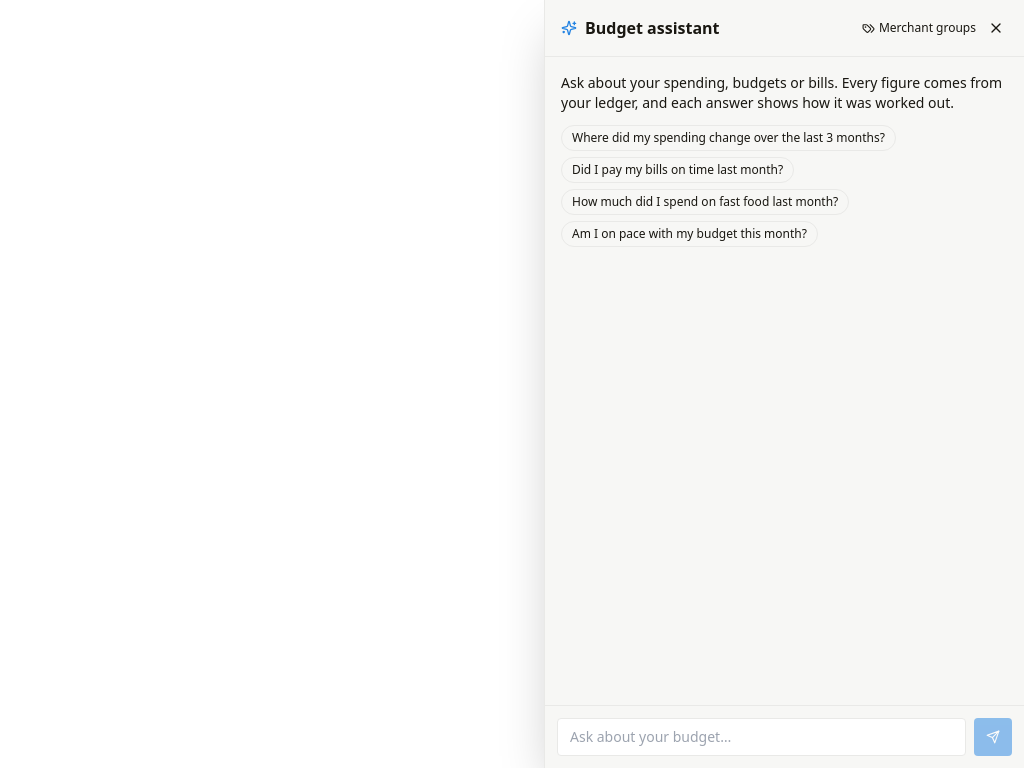
offers the four suggested questions and answers one with its sources
Expected: the button "Where did my spending change over the last 3 months?" is shown, [561,125,896,151]
Expected: the button "Did I pay my bills on time last month?" is shown, [561,157,794,183]
Step 1. Click the button "How much did I spend on fast food last month?" → (705, 202), box [561,189,849,215]
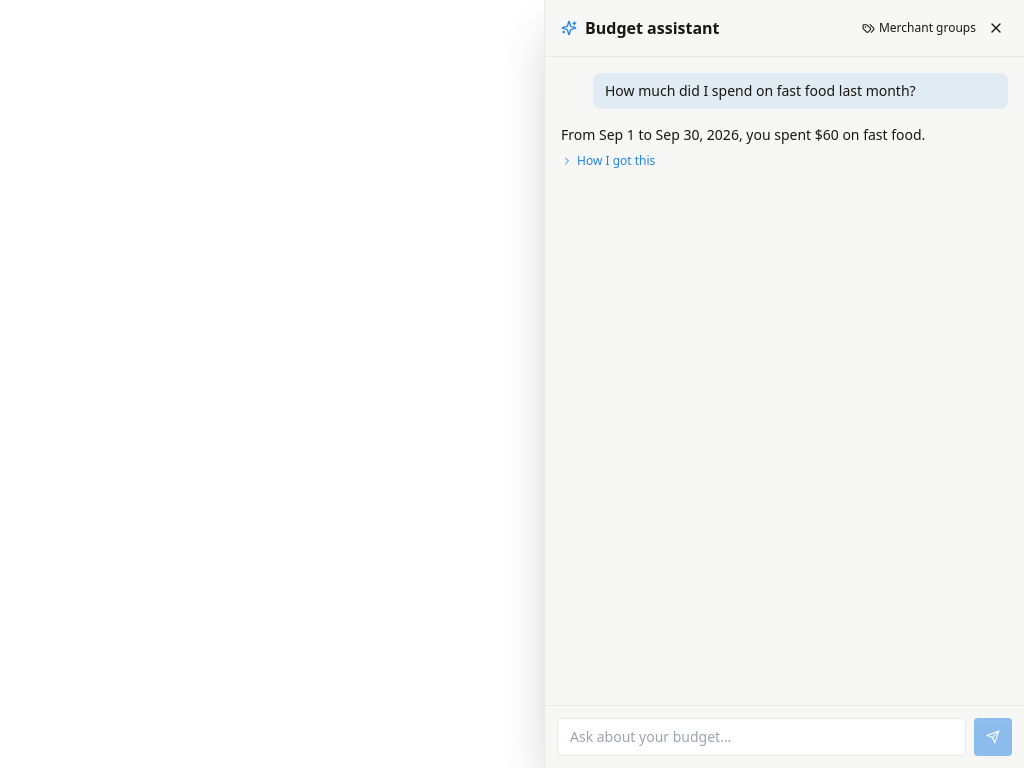
Expected: the text "From Sep 1 to Sep 30, 2026, you spent $60 on fast food." is shown, [561,125,925,144]
Step 2. Click the button "How I got this" → (608, 161), box [561,153,655,169]
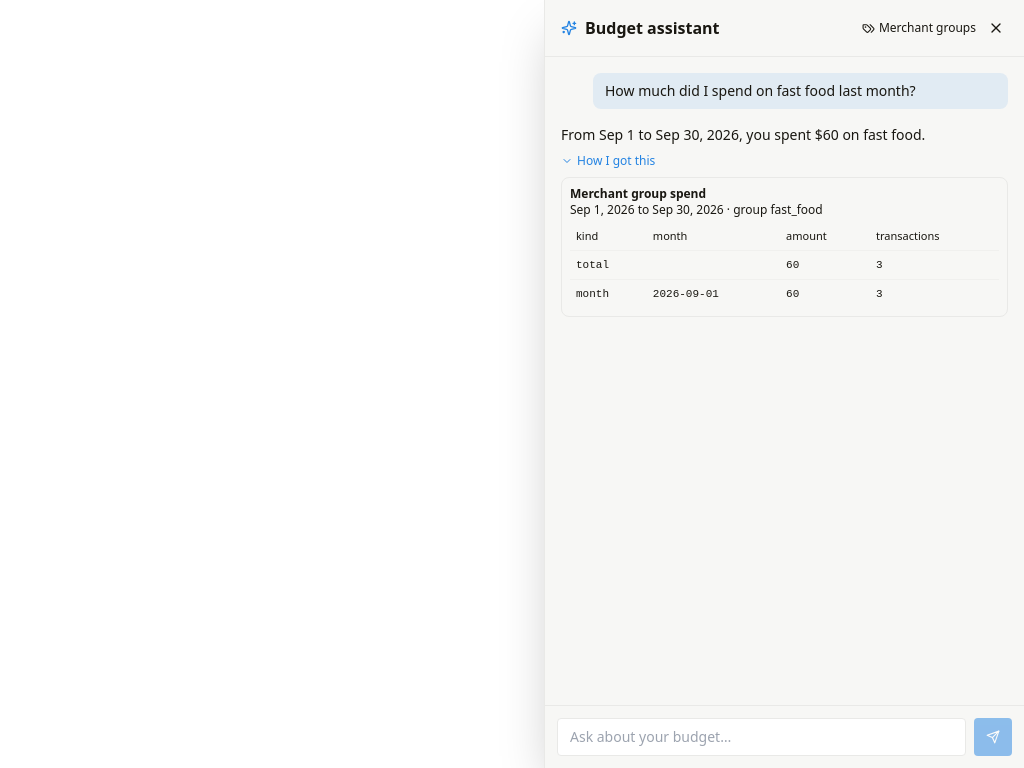
Expected: the text "Merchant group spend" is shown, [570,185,706,202]
Expected: the text "Sep 1, 2026 to Sep 30, 2026 · group fast_food" is shown, [570,201,823,218]
Expected: the text "60" is shown 2 times, [780,250,870,280]; [780,280,870,308]
